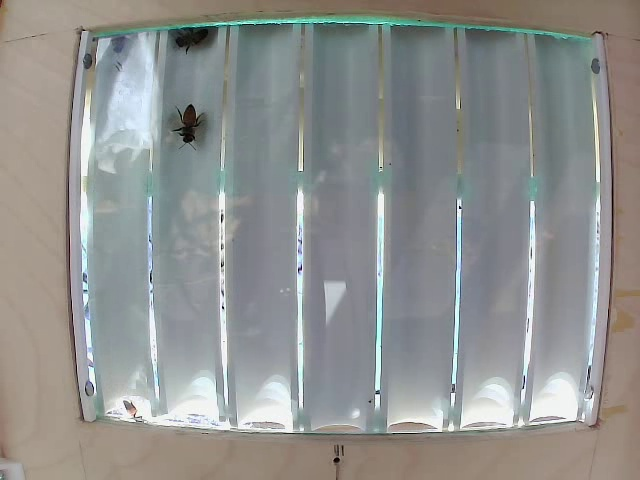bee: (171, 104, 206, 150), (171, 25, 208, 52)
